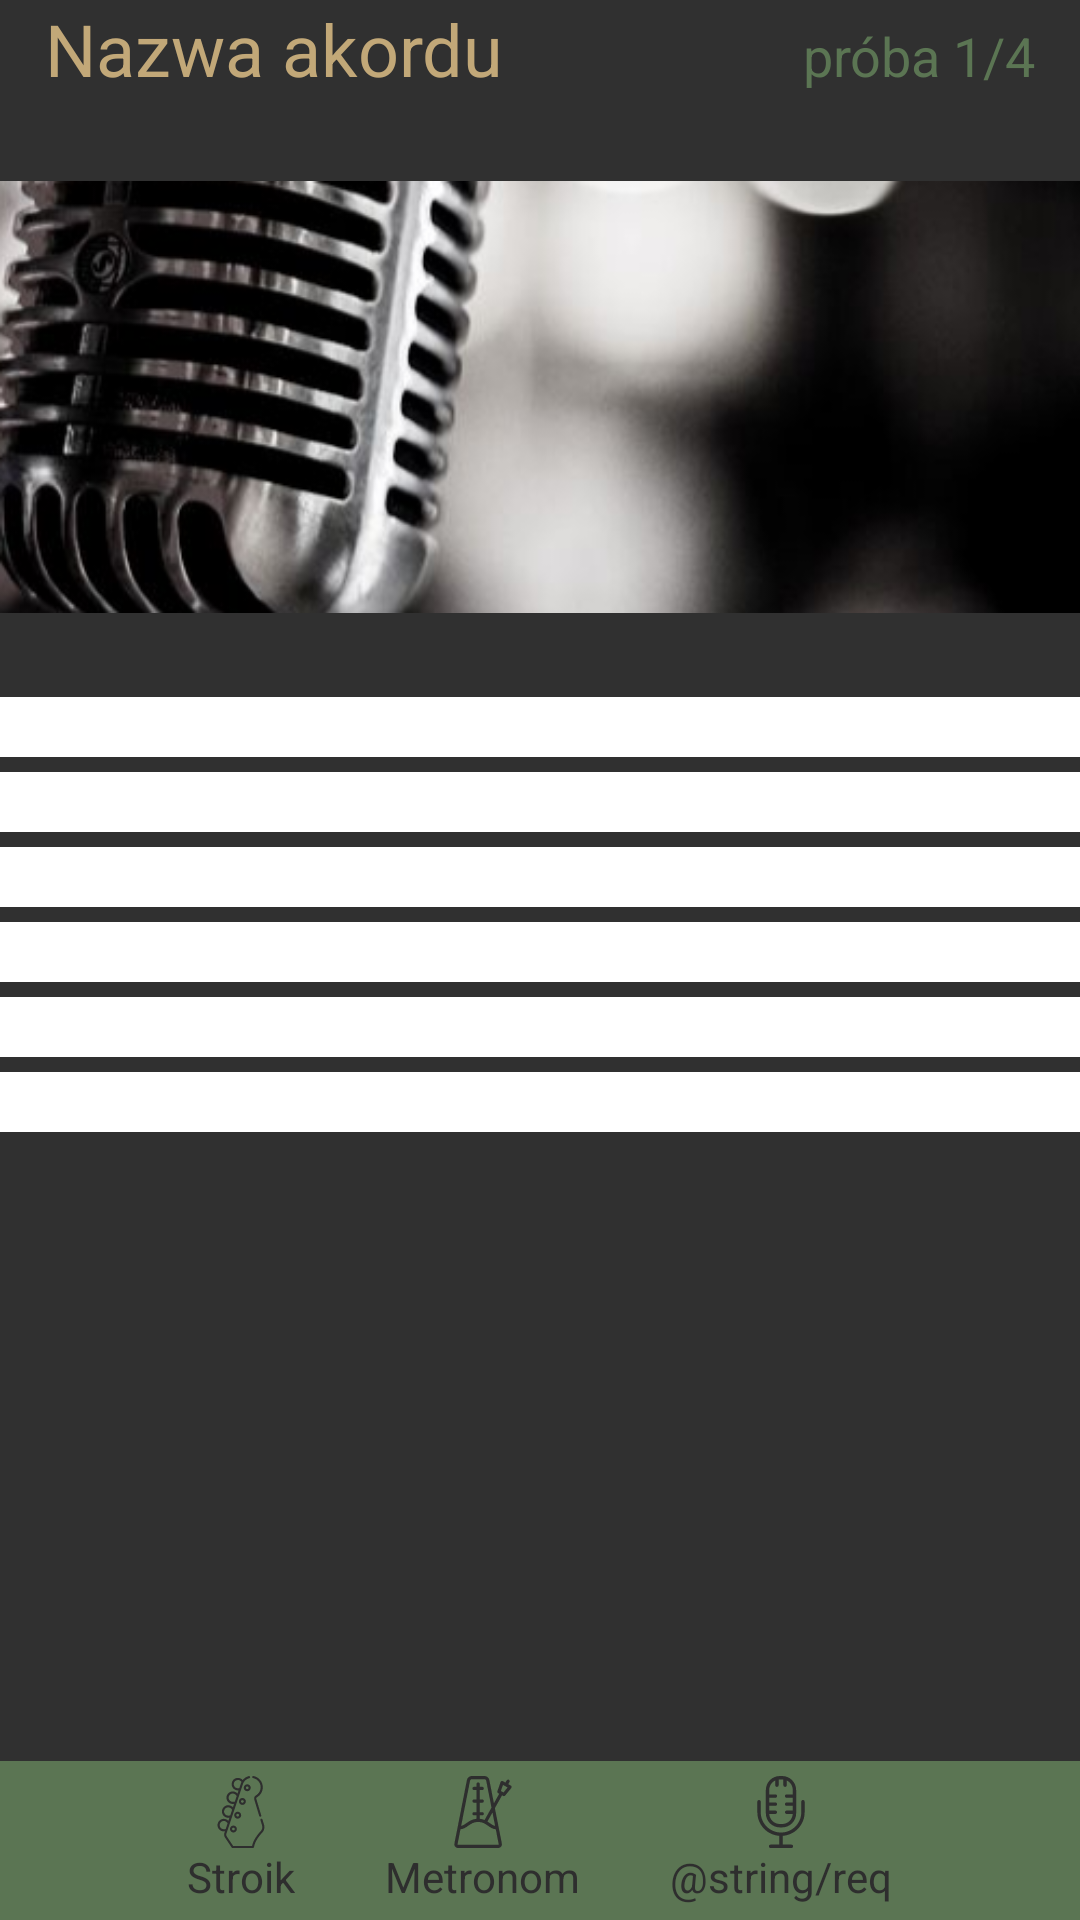

Icons on this 1080x1920 Android screen, each with its box as box(x1, y1, x2, y2):
microphone: box(757, 1776, 805, 1848)
